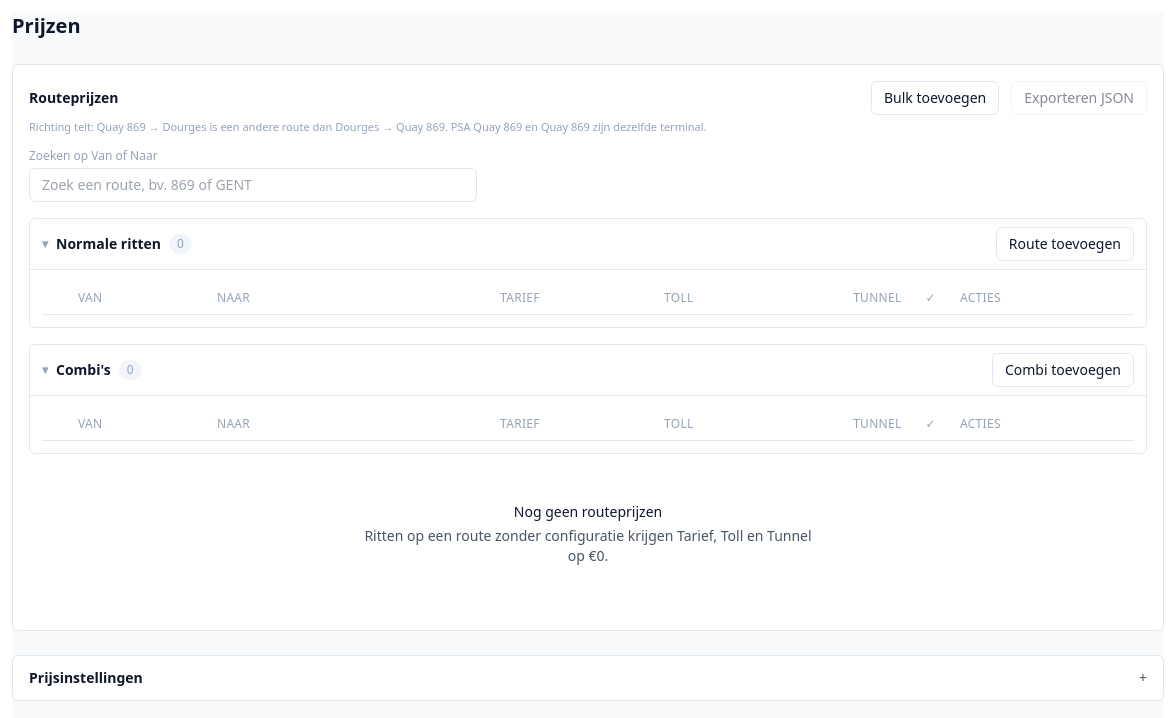
Test case: saving a route › reports it was saved, with no error
The width and height of the screenshot is (1176, 718).
Click the button "Route toevoegen".
click(1065, 244)  # box [996, 226, 1134, 260]
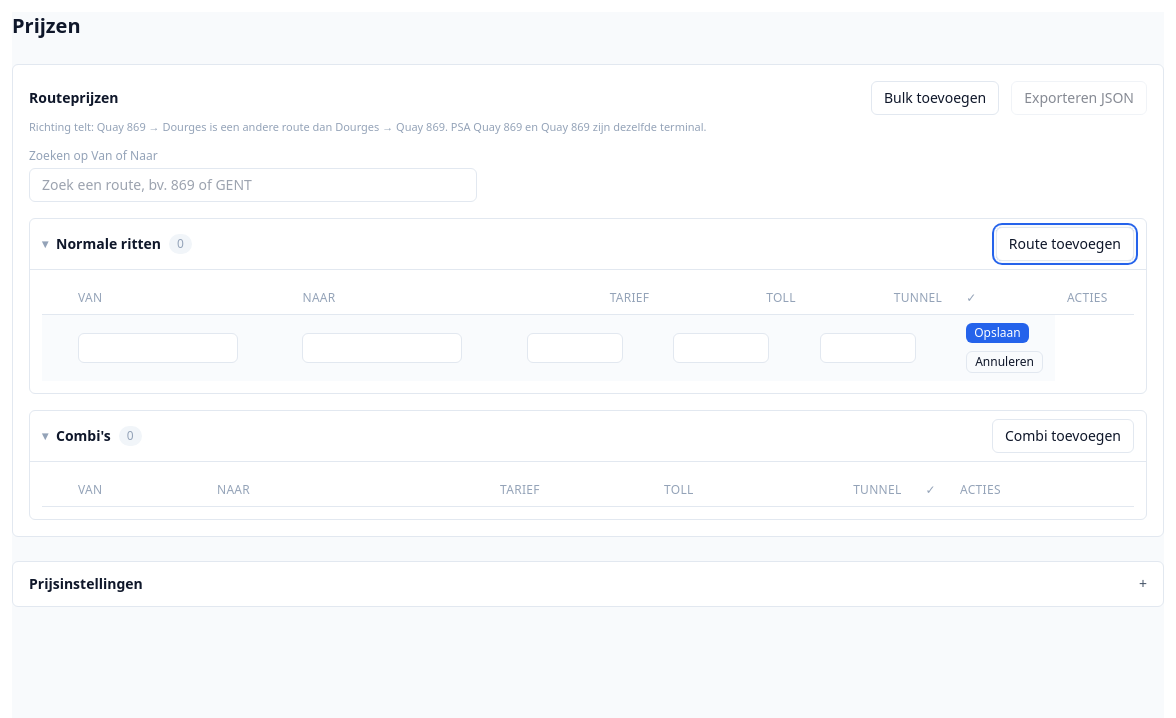
Type "Gent" into the field named "Van".
click(158, 348); type("Gent")  # box [78, 332, 238, 362]
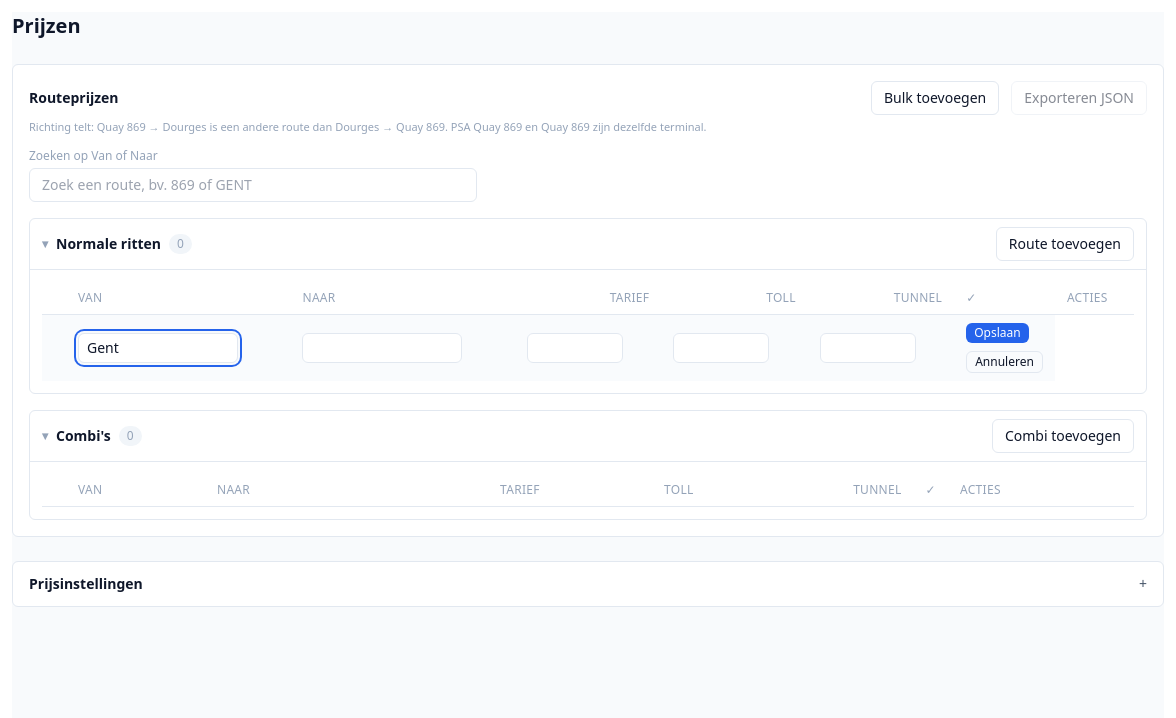
Type "Lille" into the field named "Naar".
click(382, 348); type("Lille")  # box [302, 332, 462, 362]
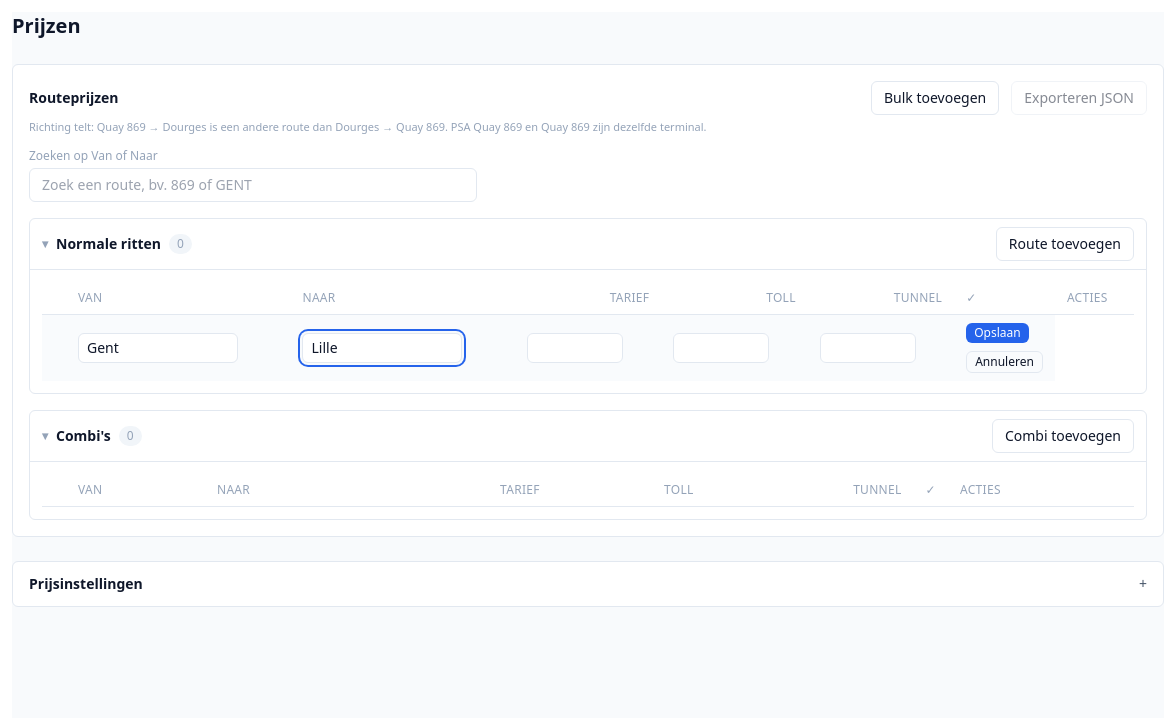
Type "120" into the number field named "Tarief".
click(575, 348); type("120")  # box [527, 332, 623, 362]
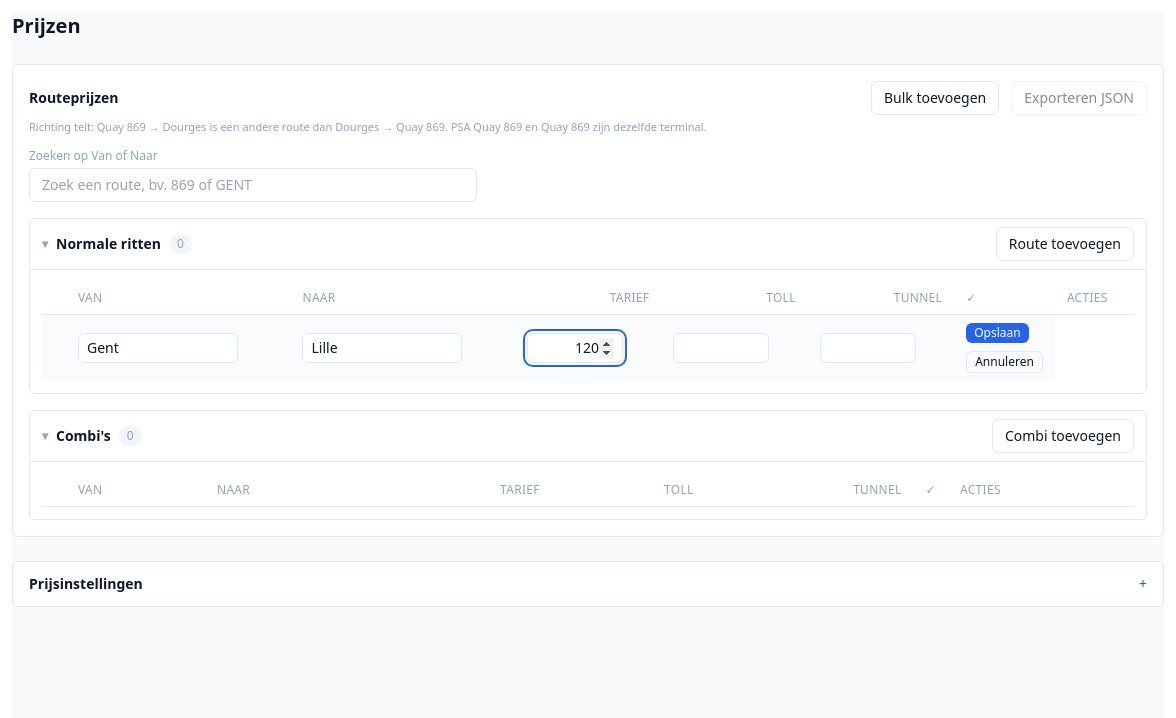
Type "55" into the number field named "Toll".
click(721, 348); type("55")  # box [673, 332, 769, 362]
Type "0" into the number field named "Tunnel".
click(868, 348); type("0")  # box [820, 332, 916, 362]
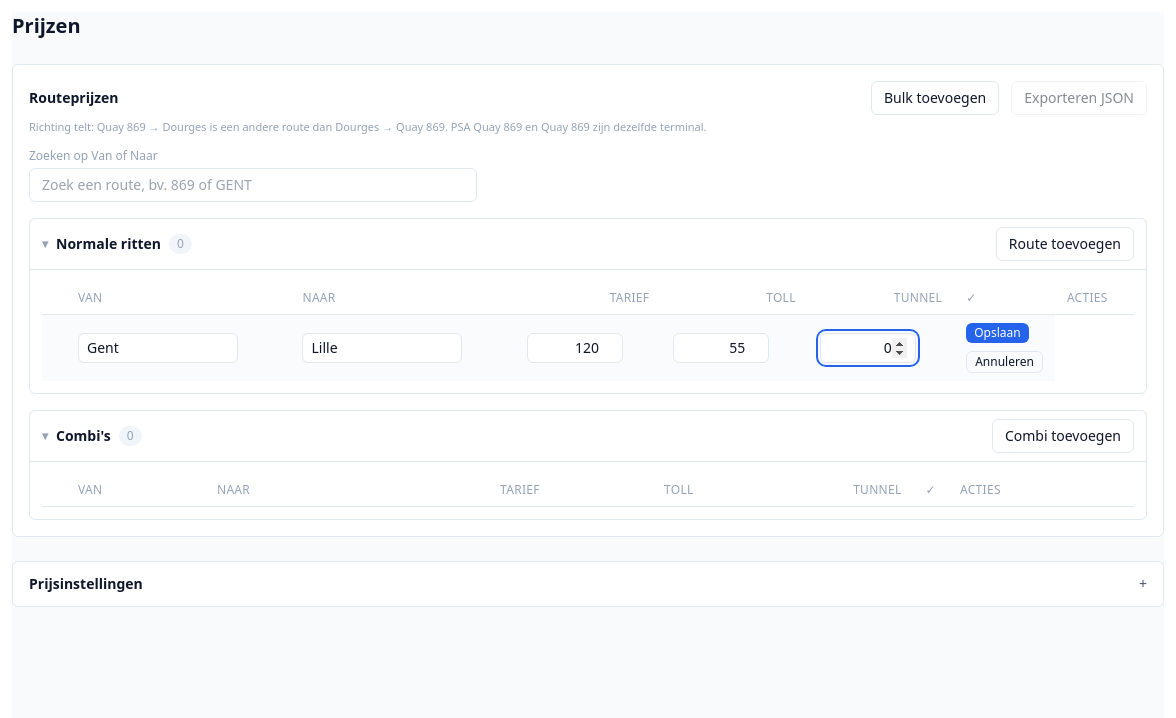
Click the button "Opslaan".
click(997, 332)  # box [966, 322, 1029, 342]
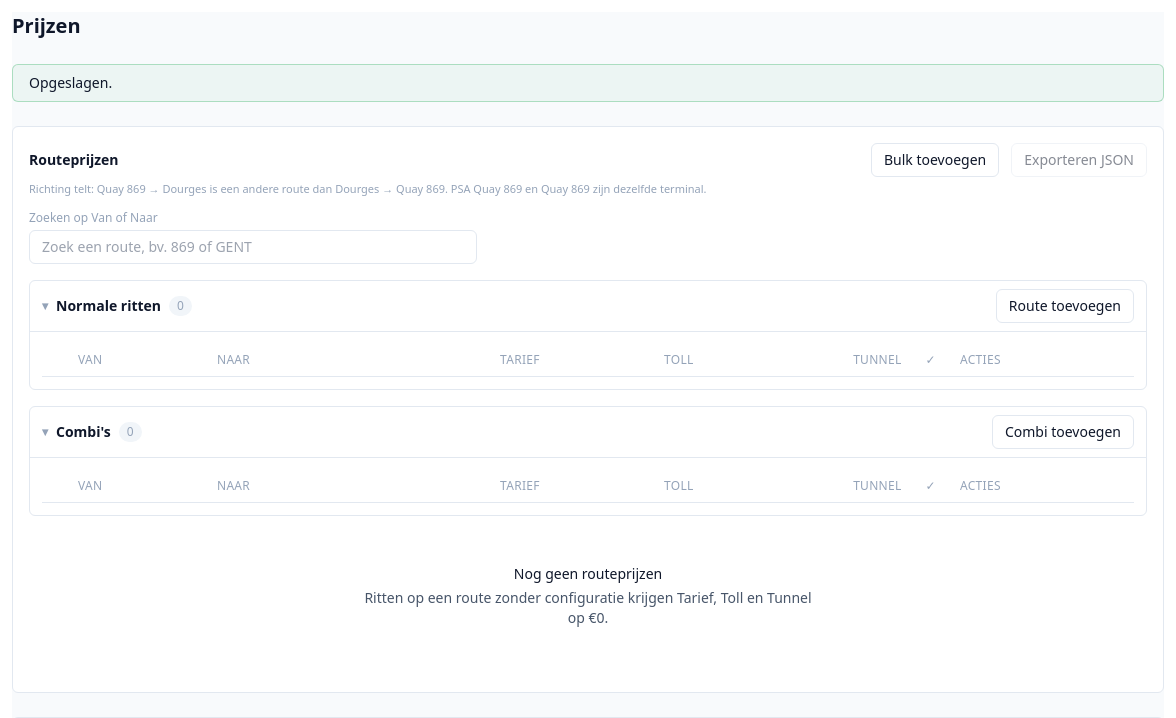
Check: the message reads "Opgeslagen.", box [29, 73, 112, 92]
